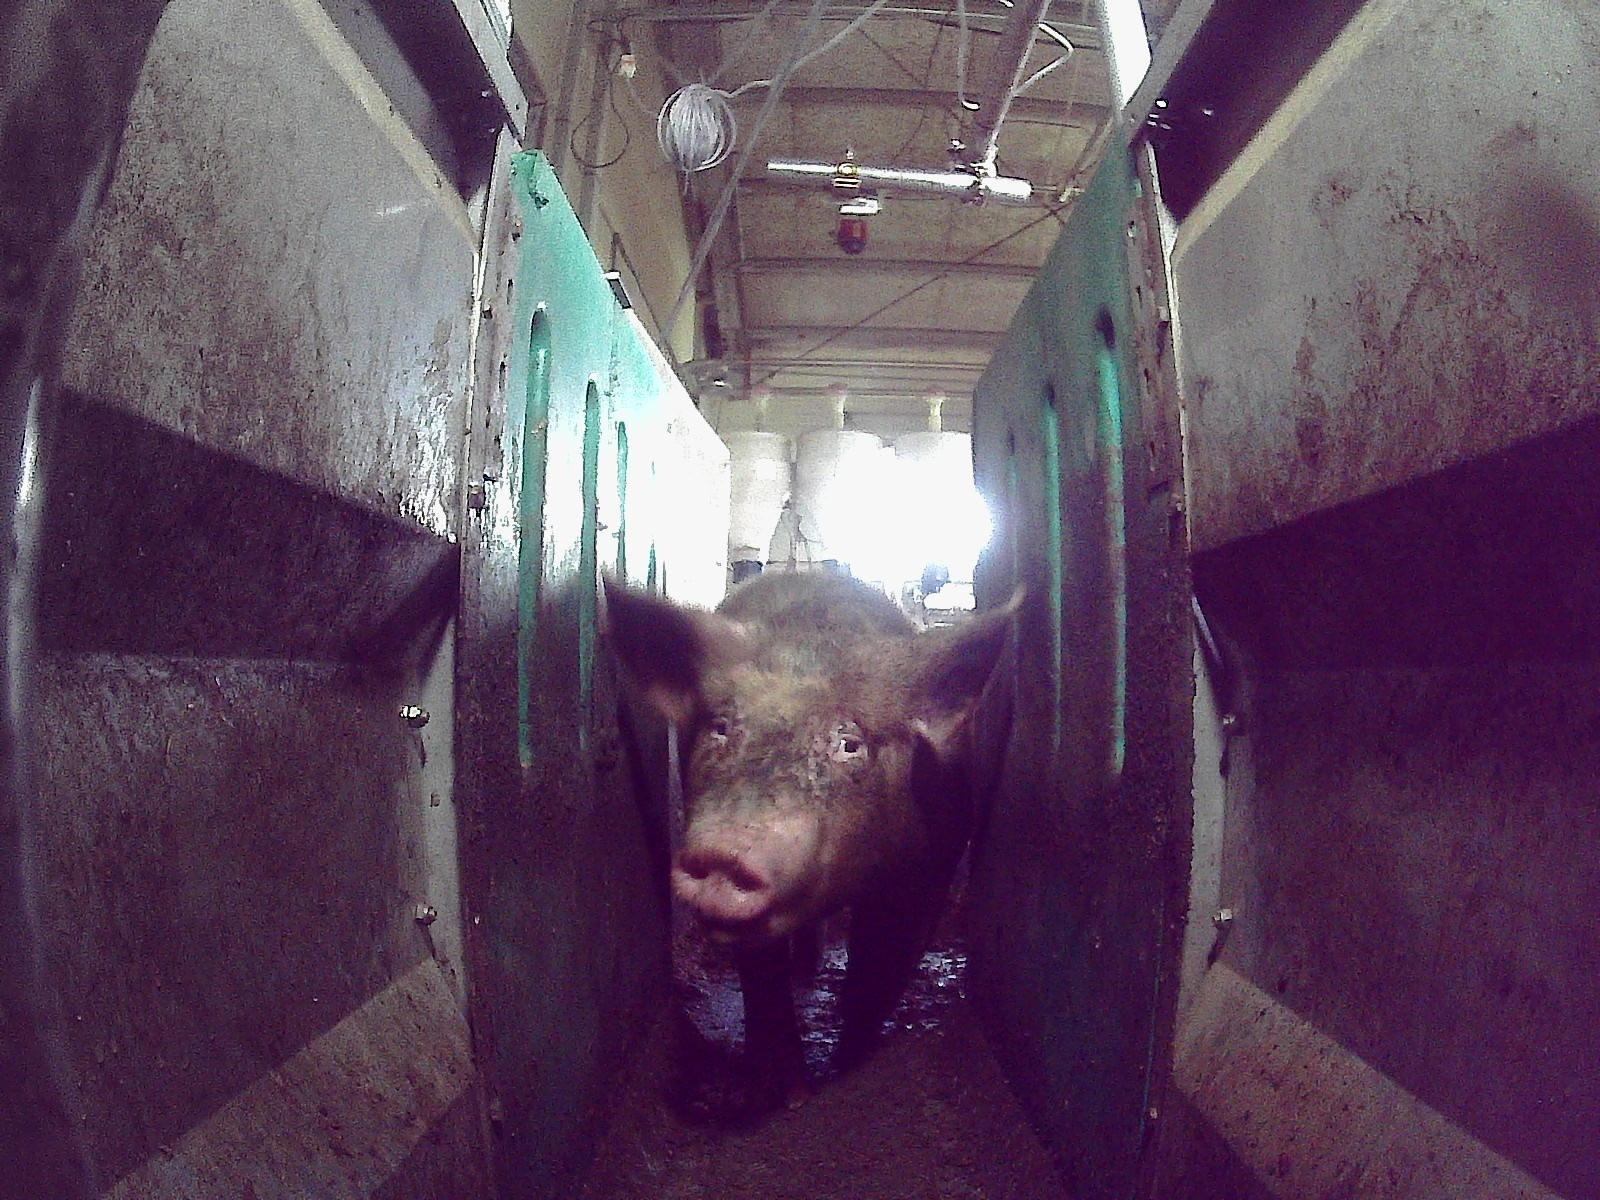Face: (670, 656, 931, 945)
